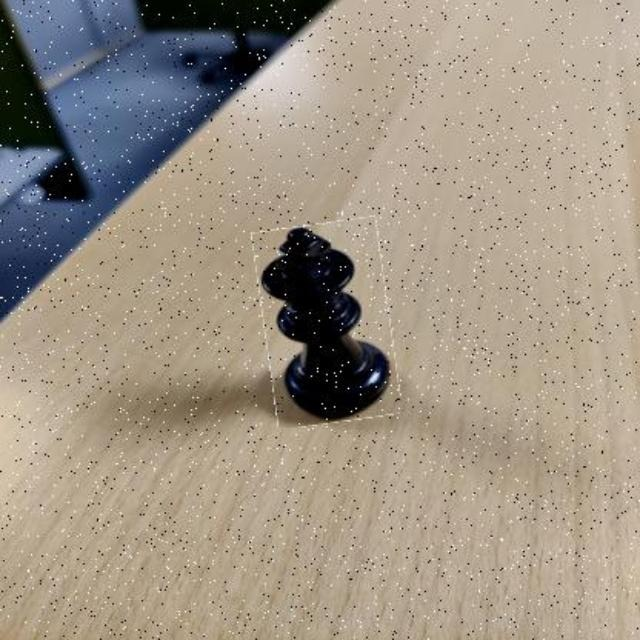black-king: (258, 219, 396, 425)
